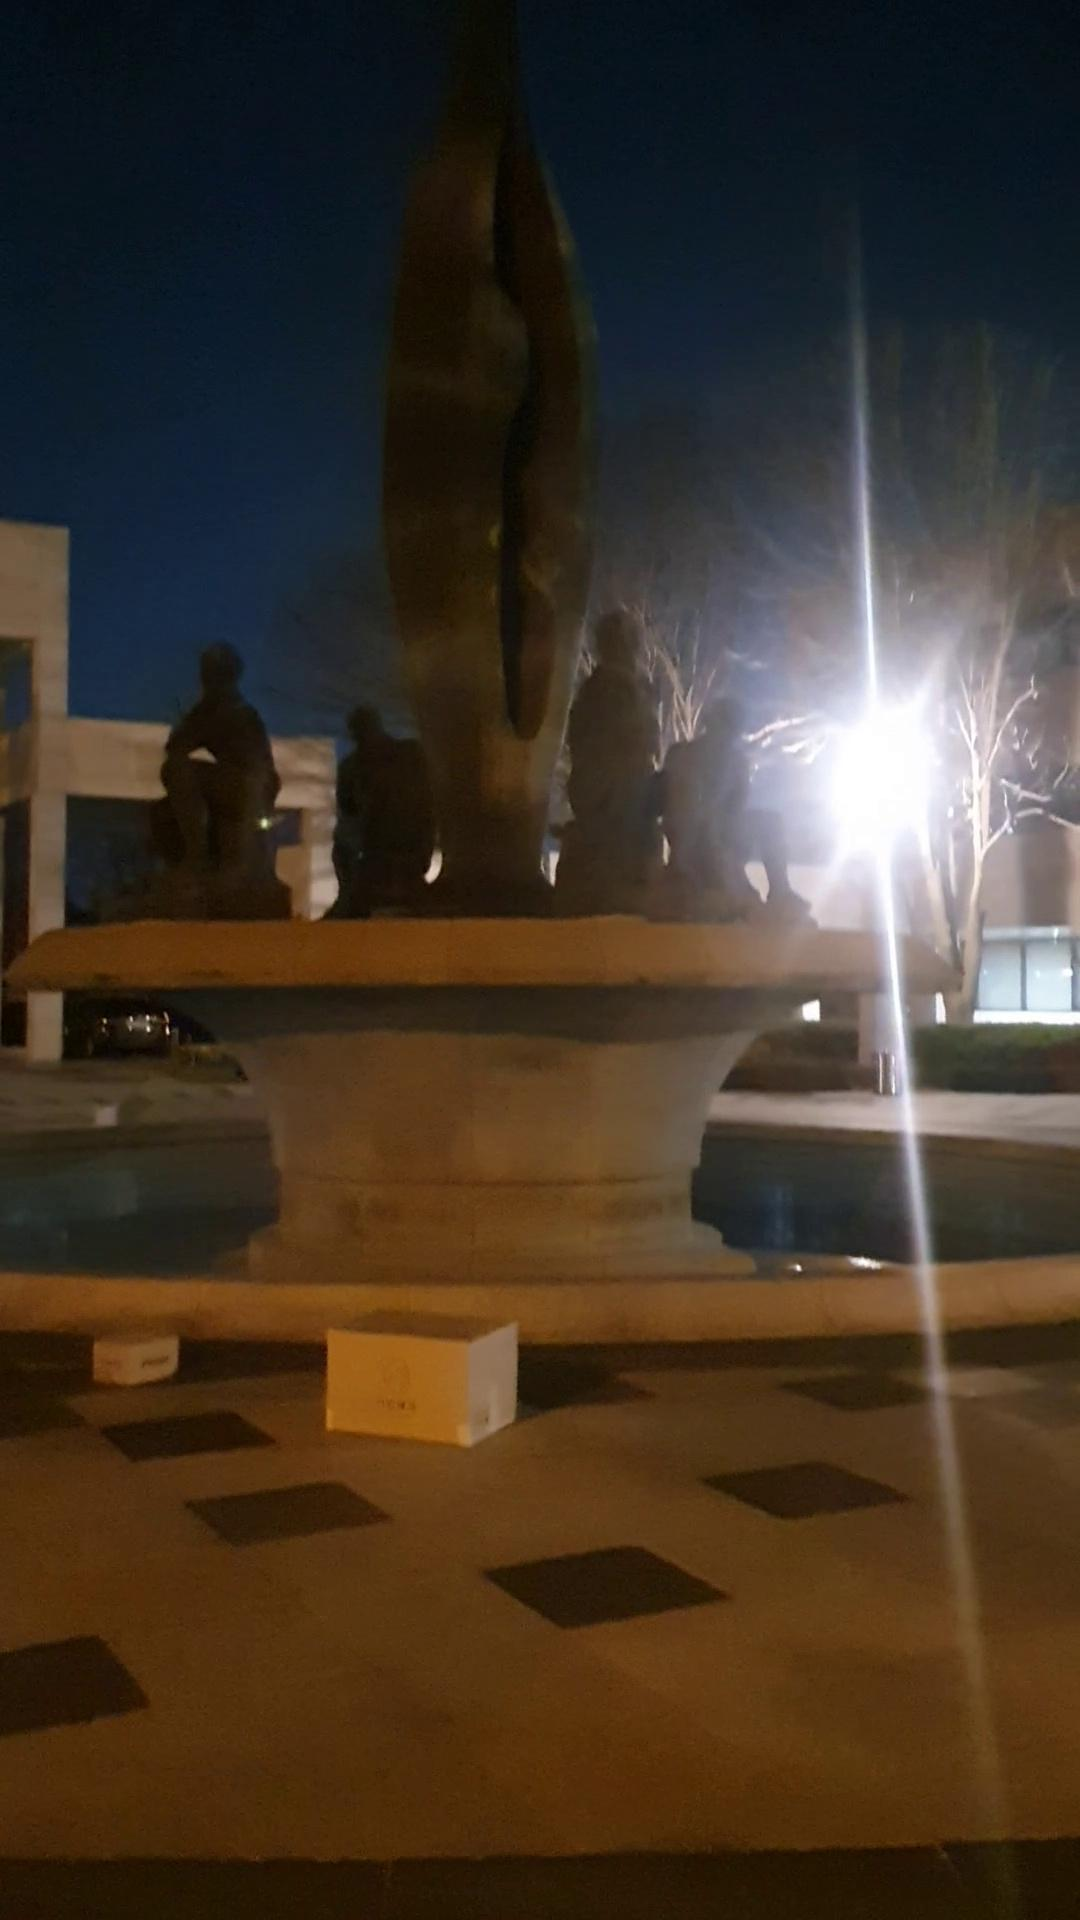Box: (316, 1300, 527, 1451), (80, 1323, 200, 1398)
